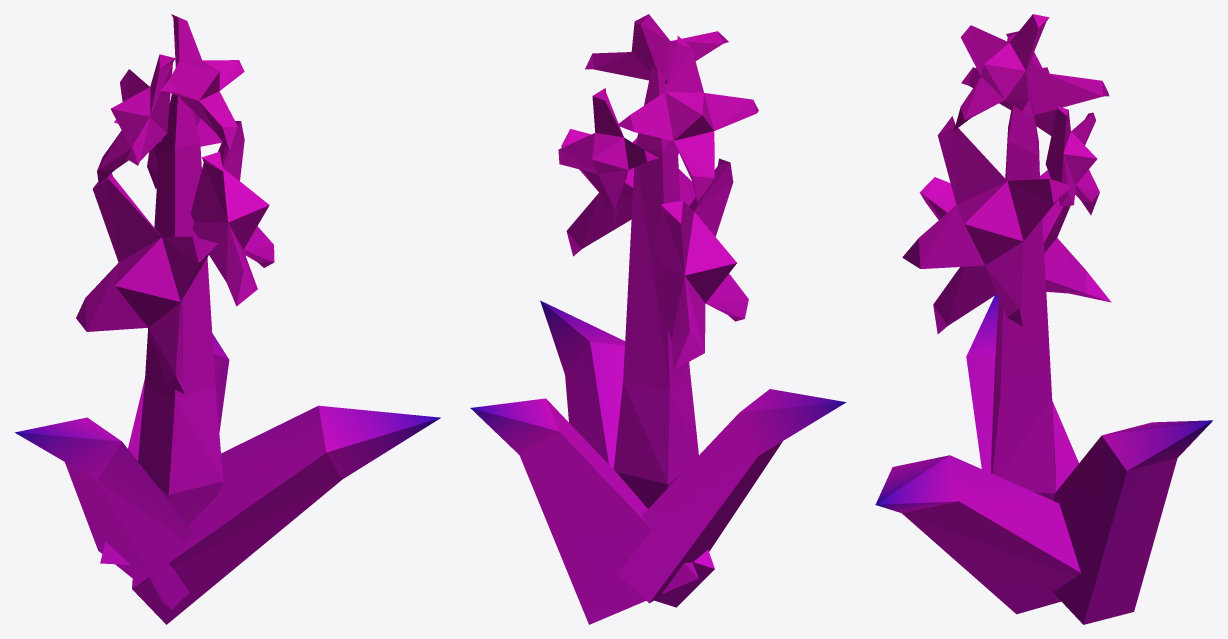
The model's file is SM_Plant_03.gltf.
3 views of the same model, side by side, from view 1: azimuth 30°, elevation 25°; view 2: azimuth 150°, elevation 25°; view 3: azimuth 270°, elevation 25° (orthographic). The views are drawn at different scales.
Parts seen in each view (by area): view 1: SM_Plant_03; view 2: SM_Plant_03; view 3: SM_Plant_03.
Part boxes in pixels (bbox=[...]): SM_Plant_03: bbox=[15, 14, 440, 624]; SM_Plant_03: bbox=[470, 14, 846, 624]; SM_Plant_03: bbox=[875, 14, 1212, 624].
Bounding box in the file's own units: 0.5243 × 0.8136 × 0.4086.
